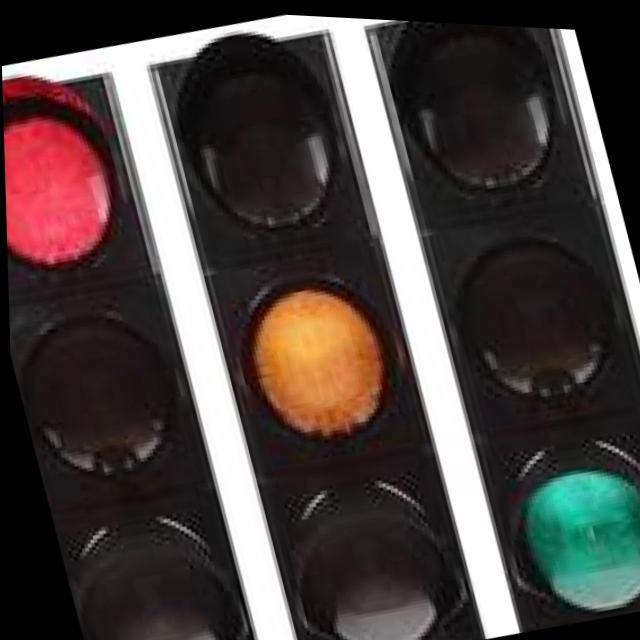green_light: (443, 389, 640, 638)
red_light: (1, 63, 170, 300)
yellow_light: (172, 226, 449, 493)
